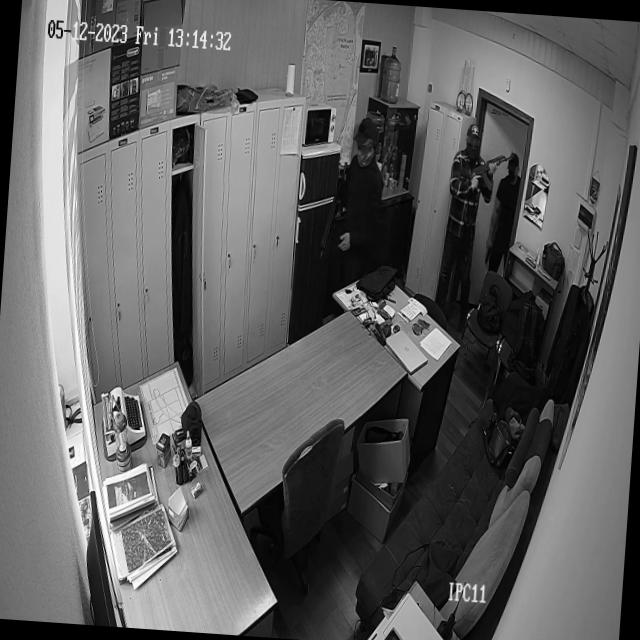gun: (320, 160, 348, 260), (470, 148, 516, 192), (485, 243, 491, 264)
person with a gun: (319, 94, 401, 346), (443, 111, 520, 340)
